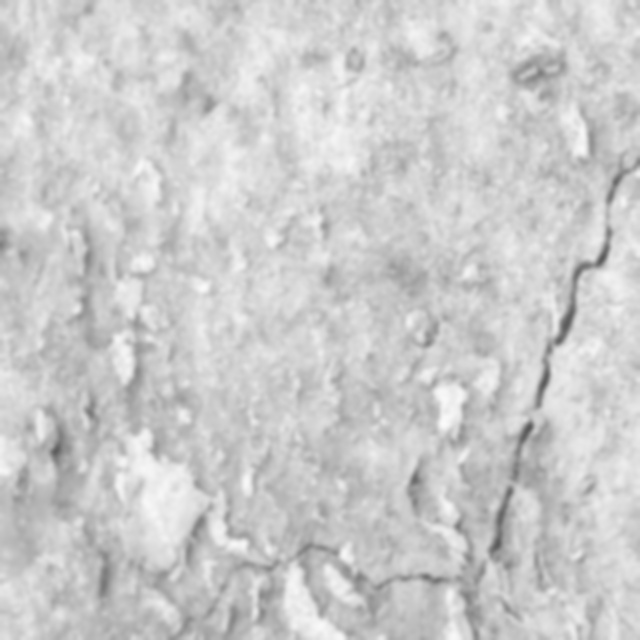SurfaceCrack: (352, 8, 639, 638)
